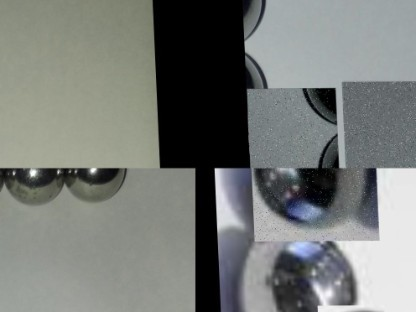ironball: (216, 222, 361, 311), (247, 168, 377, 241), (0, 166, 65, 206), (64, 165, 123, 207)
